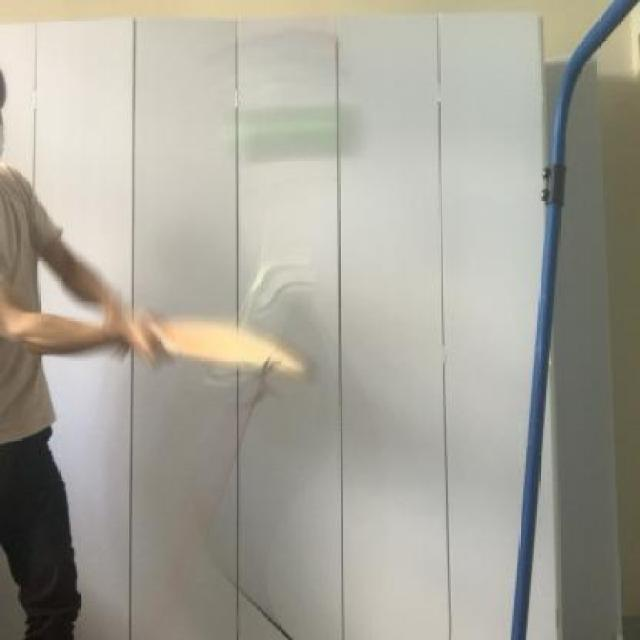baseball: (215, 83, 374, 169)
